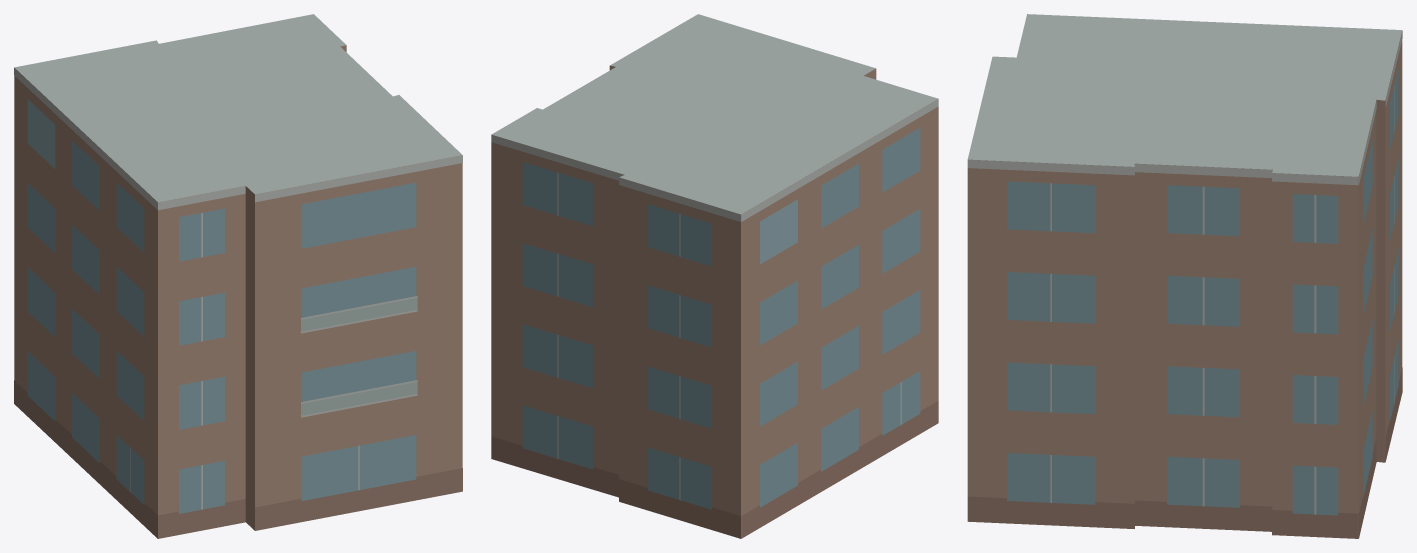
File: survey-upis-32505255.glb
3 views of the same model, side by side, from view 1: azimuth 30°, elevation 25°; view 2: azimuth 150°, elevation 25°; view 3: azimuth 270°, elevation 25° (orthographic). The views are drawn at different scales.
Visible parts, largest first — view 1: survey-upis-32505255.tmp; view 2: survey-upis-32505255.tmp; view 3: survey-upis-32505255.tmp.
Part boxes in pixels (x1=…): survey-upis-32505255.tmp: x1=14, y1=14, x2=462, y2=538; survey-upis-32505255.tmp: x1=491, y1=14, x2=938, y2=538; survey-upis-32505255.tmp: x1=967, y1=14, x2=1402, y2=538.
Size of the model in its own units: 10.04 by 10.4 by 11.33.
